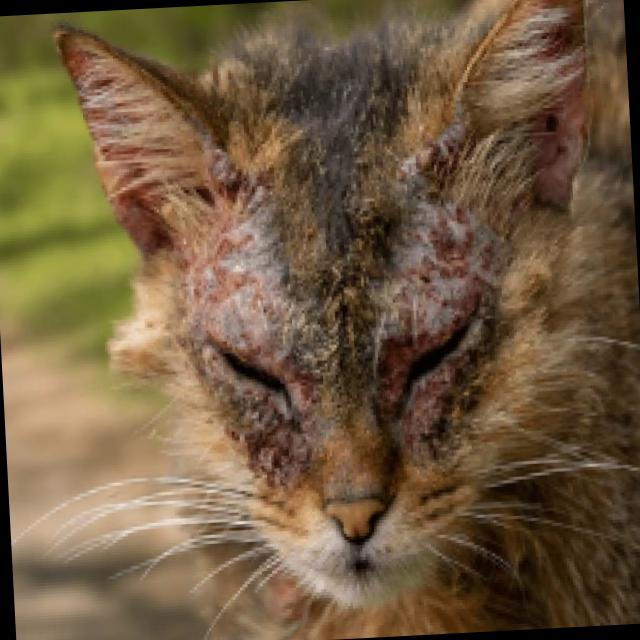Mange: (177, 215, 323, 501), (372, 129, 494, 418), (405, 316, 498, 471), (102, 160, 179, 258), (198, 134, 270, 217), (237, 398, 302, 480)
